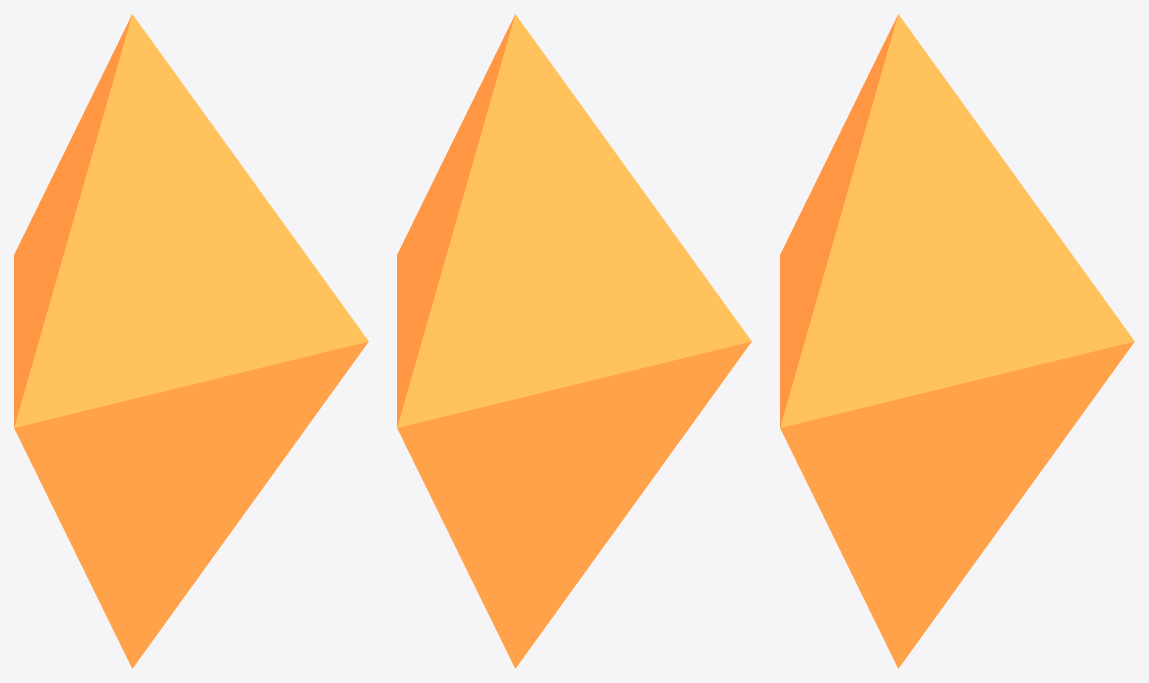
3 renders of one model, left to right at view 1: azimuth 30°, elevation 25°; view 2: azimuth 150°, elevation 25°; view 3: azimuth 270°, elevation 25°, orthographic.
Visible parts, largest first — view 1: Fire; view 2: Fire; view 3: Fire.
Boxes of the visible parts, bbox=[...] form: Fire: bbox=[14, 14, 368, 668]; Fire: bbox=[397, 14, 751, 668]; Fire: bbox=[780, 14, 1134, 668].
Bounding box in the file's own units: 0.0965 × 0.1702 × 0.0835.
